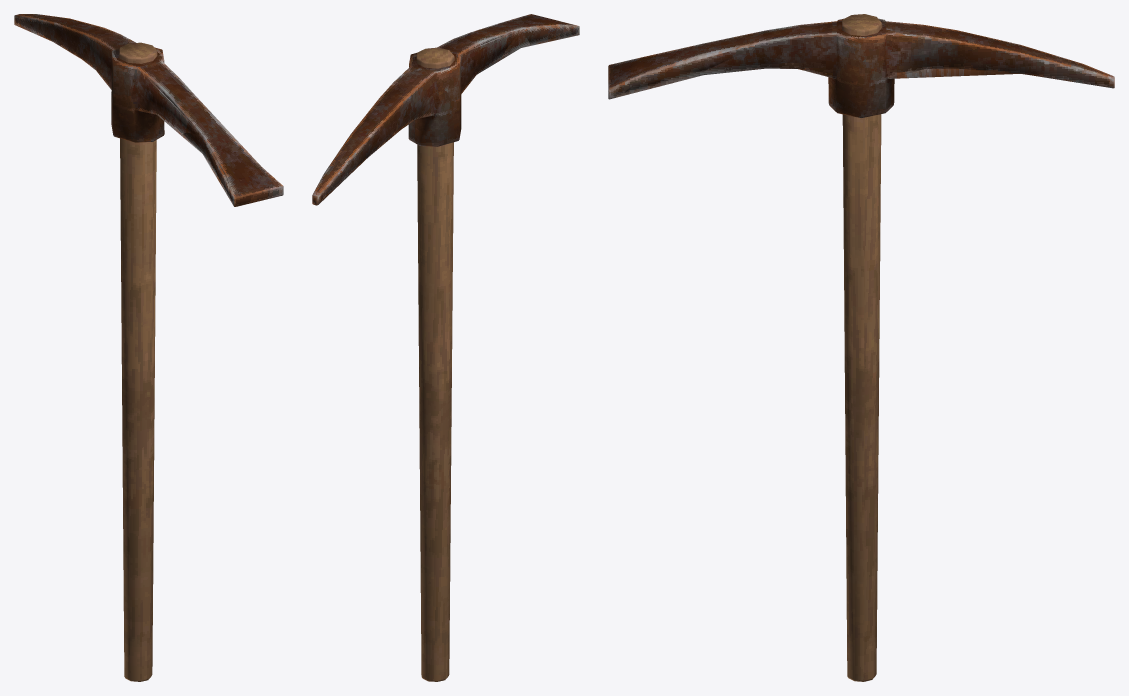
File: item_pickaxe_realistic.glb
3 renders of one model, left to right at view 1: azimuth 30°, elevation 25°; view 2: azimuth 150°, elevation 25°; view 3: azimuth 270°, elevation 25°, orthographic. The views are drawn at different scales.
Parts seen in each view (by area): view 1: RealisticPickaxe; view 2: RealisticPickaxe; view 3: RealisticPickaxe.
Boxes of the visible parts, x1=… form: RealisticPickaxe: x1=14, y1=14, x2=283, y2=681; RealisticPickaxe: x1=312, y1=14, x2=579, y2=681; RealisticPickaxe: x1=608, y1=14, x2=1114, y2=681.
Bounding box in the file's own units: 0.0699 × 0.8373 × 0.5872.
1 material, 1 textured.
